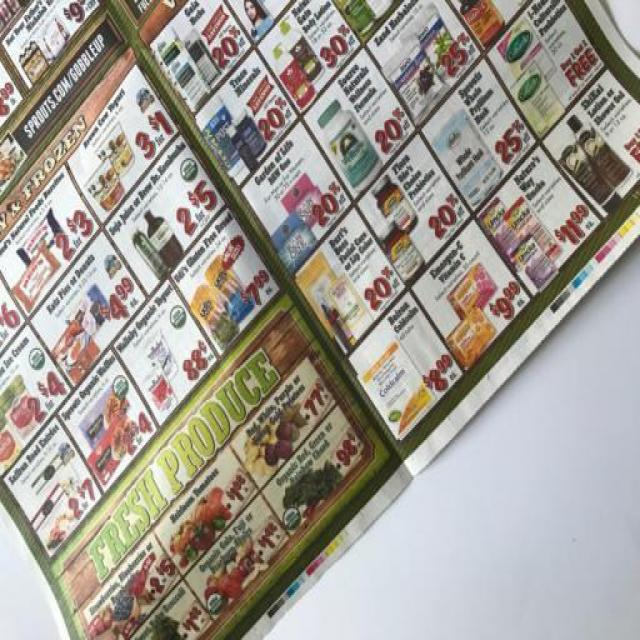paper: (2, 1, 640, 640)
